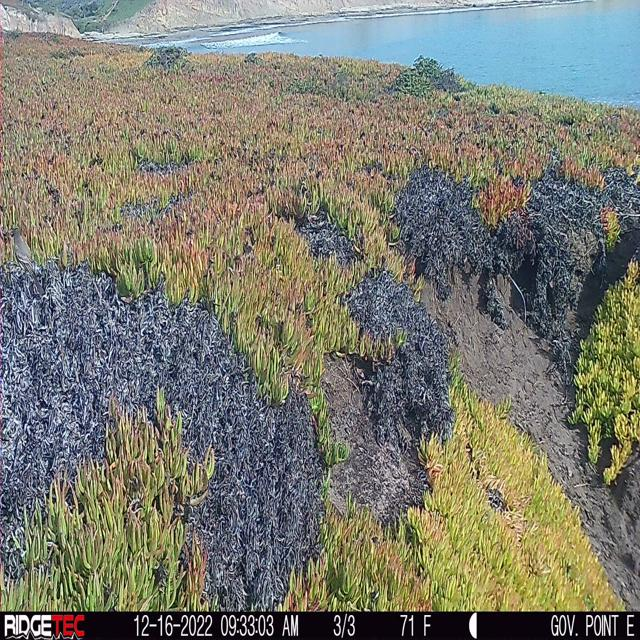bird: (8, 212, 48, 297)
